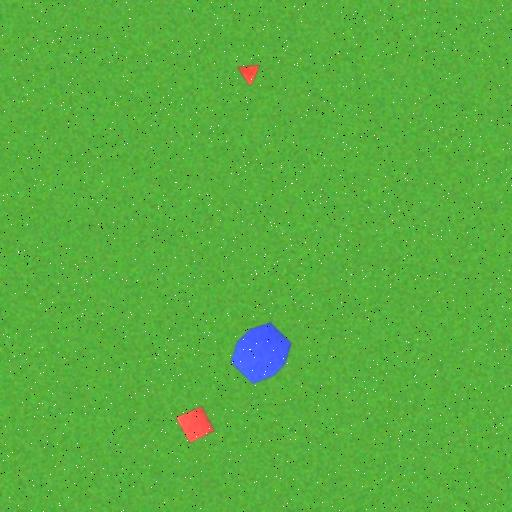RED_SQUARE: (175, 406, 215, 444)
